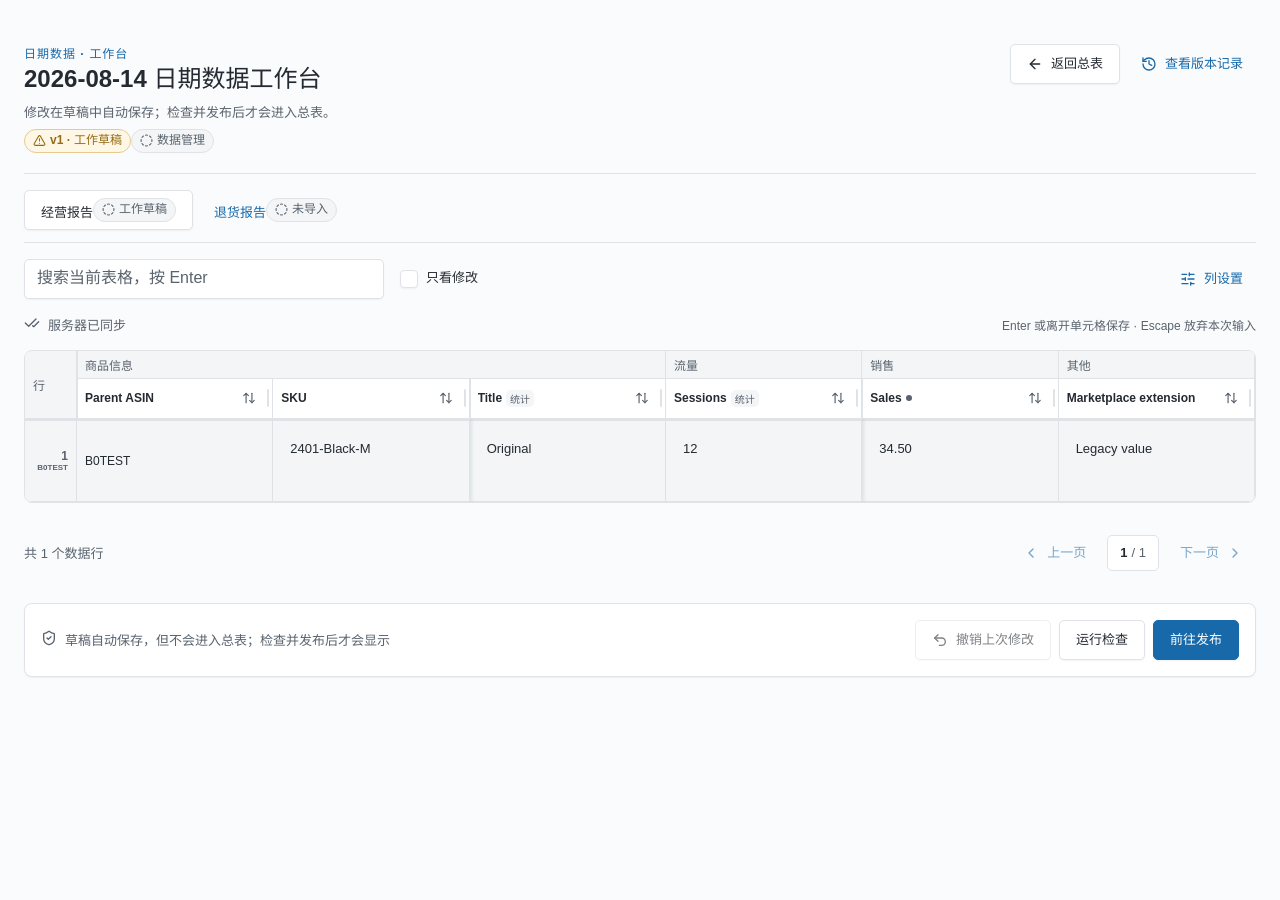
DateWorkbenchPage › shows the authoritative original after save and undo without patching again on blur
The image size is (1280, 900).
Expected: the button "撤销上次修改" is disabled, x1=915 y1=620 x2=1051 y2=660
Replace the text in the field named "Title，第 1 行" with "Updated" at (567, 449), box x1=478 y1=429 x2=657 y2=469
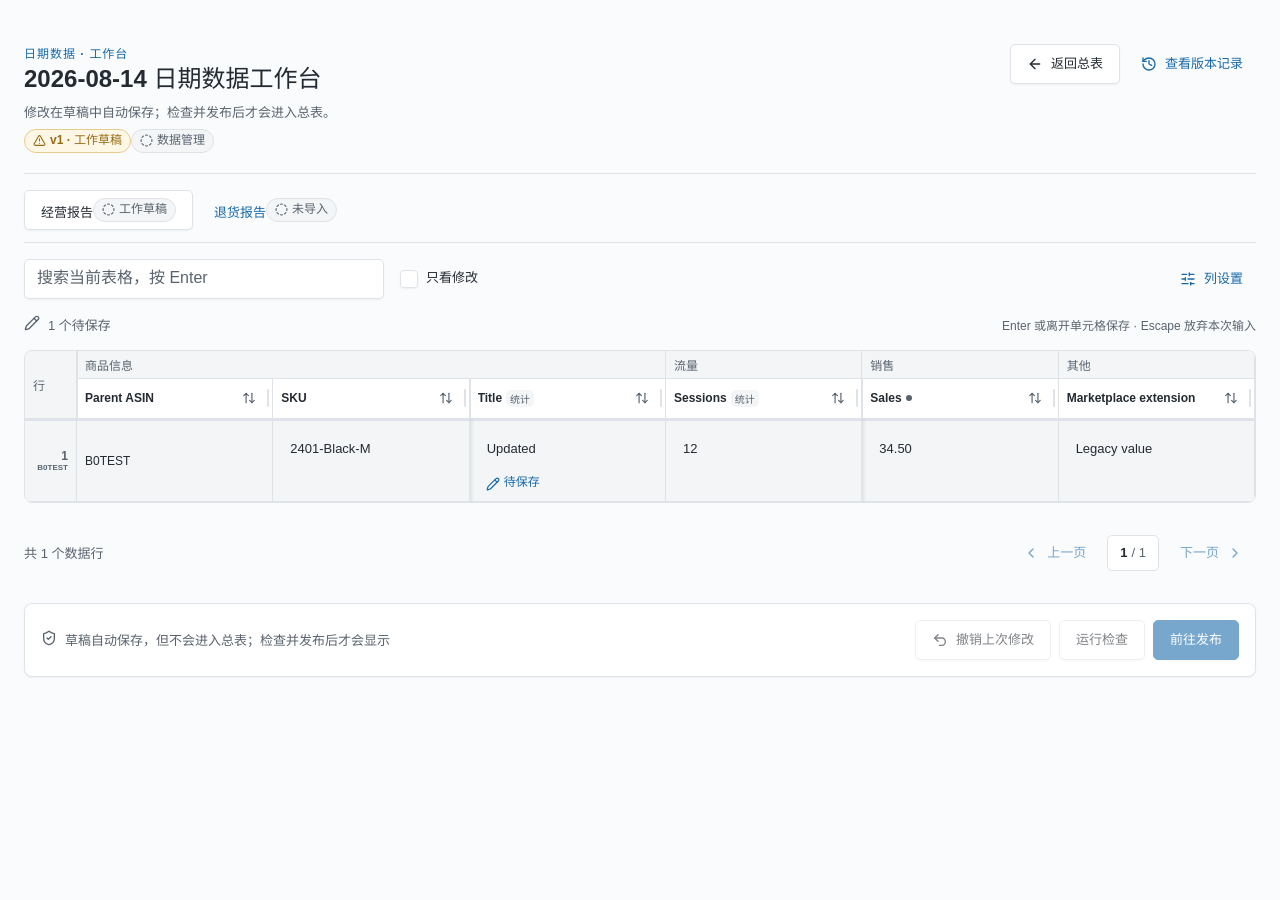
Leave the field named "Title，第 1 行", box x1=478 y1=429 x2=657 y2=469
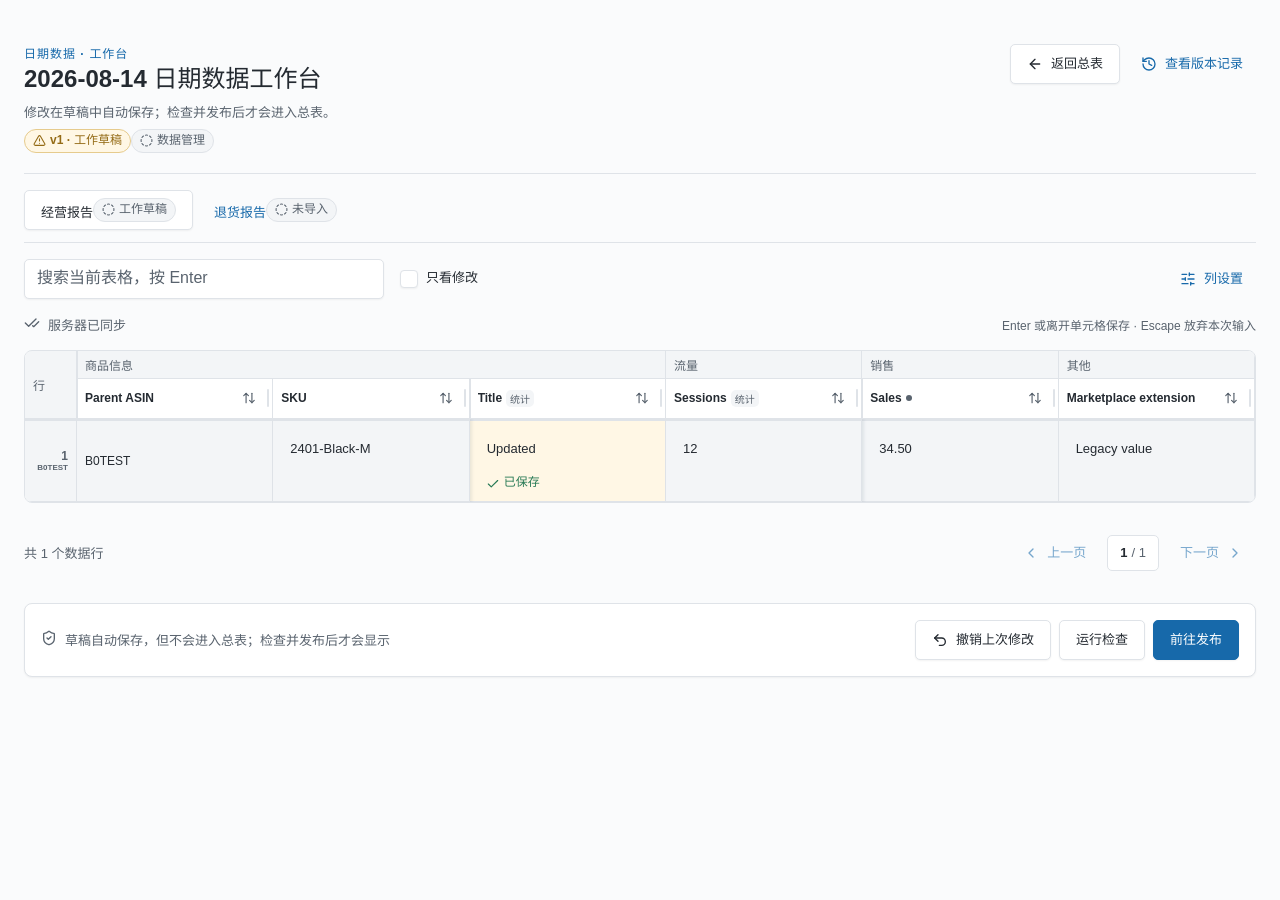
Expected: the button "撤销上次修改" is enabled
Click the button "撤销上次修改" at (983, 640), box x1=915 y1=620 x2=1051 y2=660
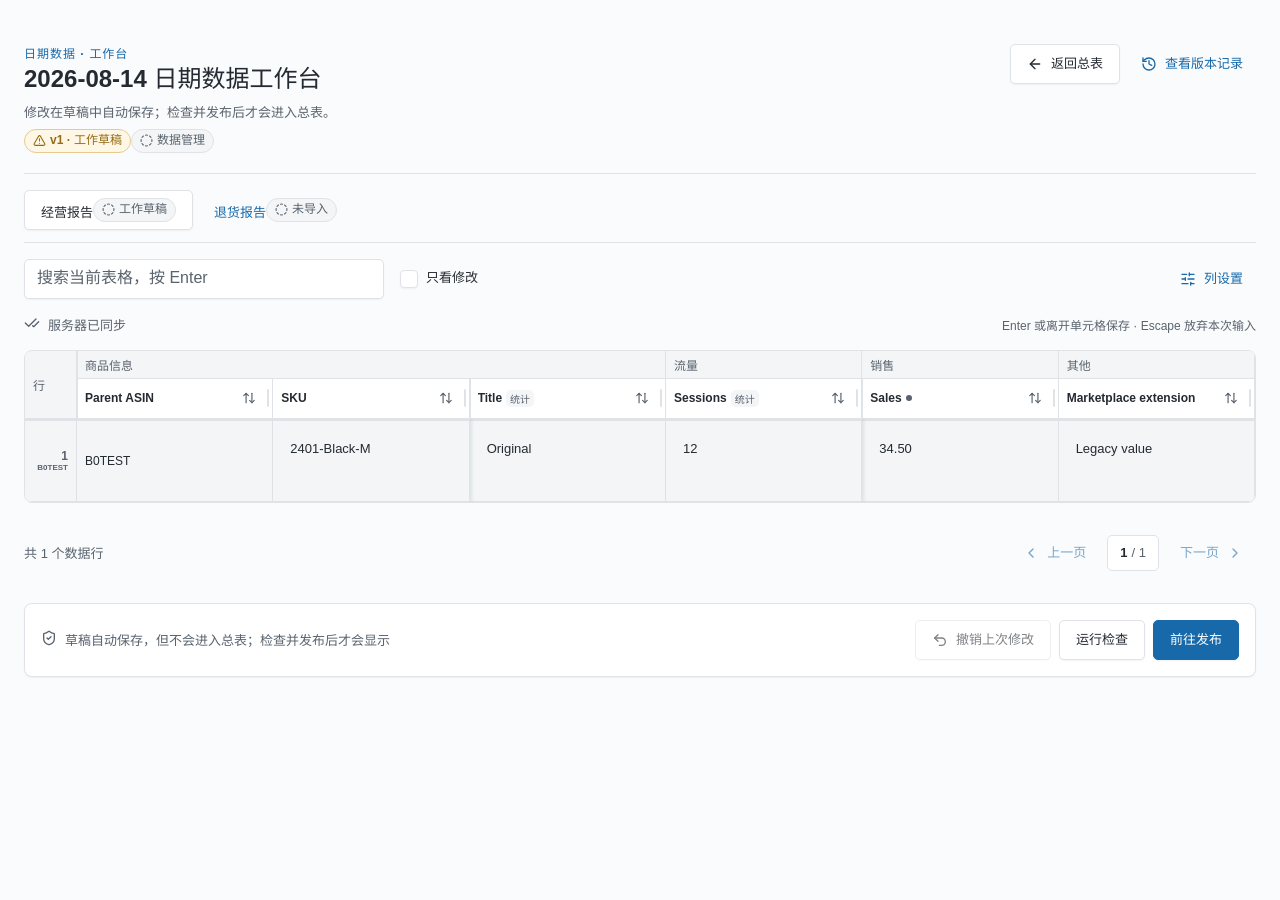
Expected: the field named "Title，第 1 行" holds "Original", x1=478 y1=429 x2=657 y2=469
Expected: the button "撤销上次修改" is disabled, x1=915 y1=620 x2=1051 y2=660
